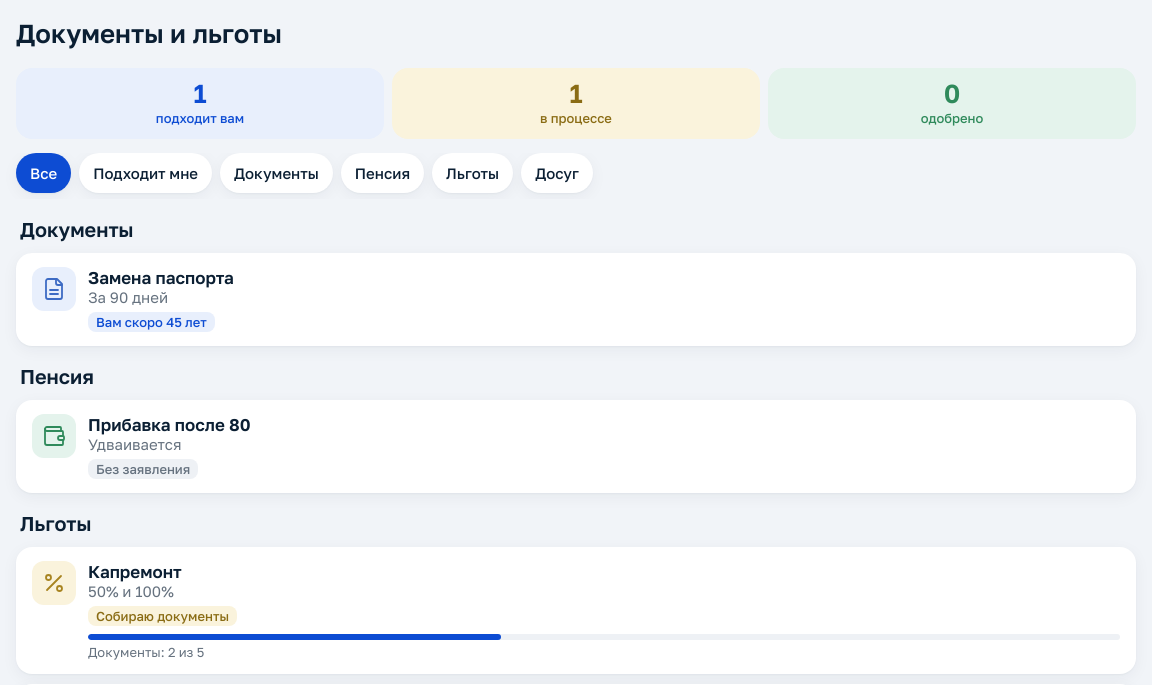
Test: DocumentsPage › фильтры и открытие льготы
This screenshot has width=1152, height=685.
Click the button "Подходит мне".
click(146, 173)  # box [79, 153, 212, 193]
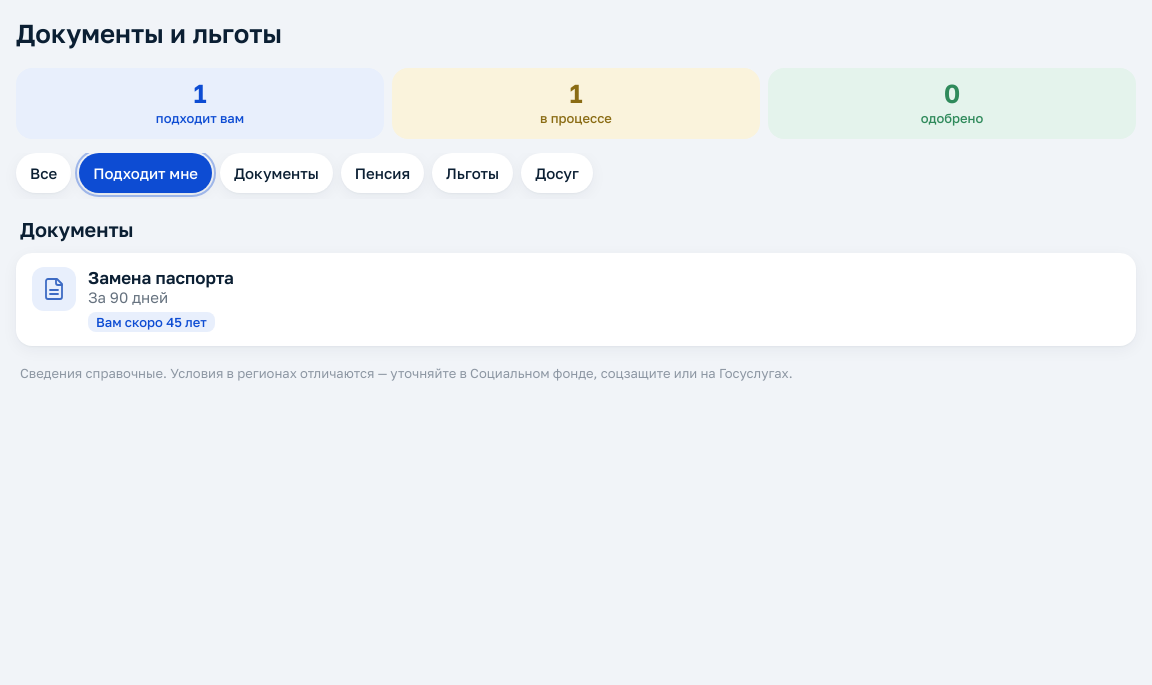
Expected: the button "Замена паспорта За 90 дней Вам скоро 45 лет" is shown, [16, 253, 1136, 346]
Expected: the button "Капремонт" is gone
Click the button "Льготы".
click(473, 173)  # box [432, 153, 513, 193]
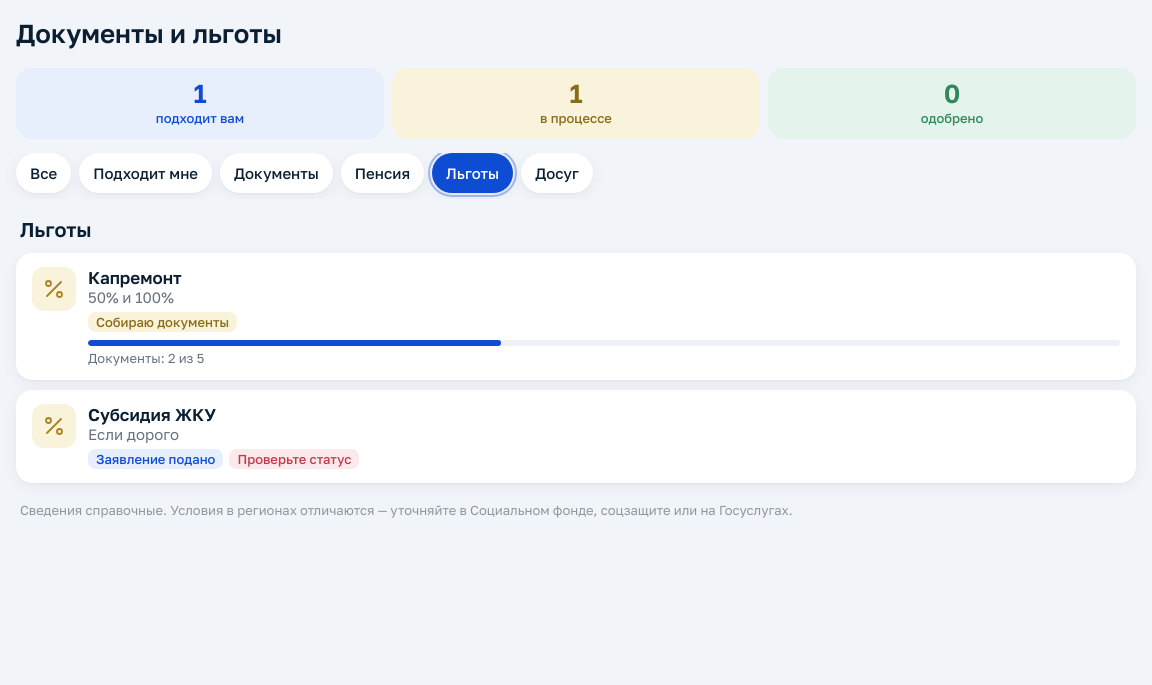
Expected: the button "Замена паспорта" is gone
Click the button "Капремонт 50% и 100% Собираю документы Документы: 2 из 5".
click(54, 289)  # box [16, 253, 1136, 380]
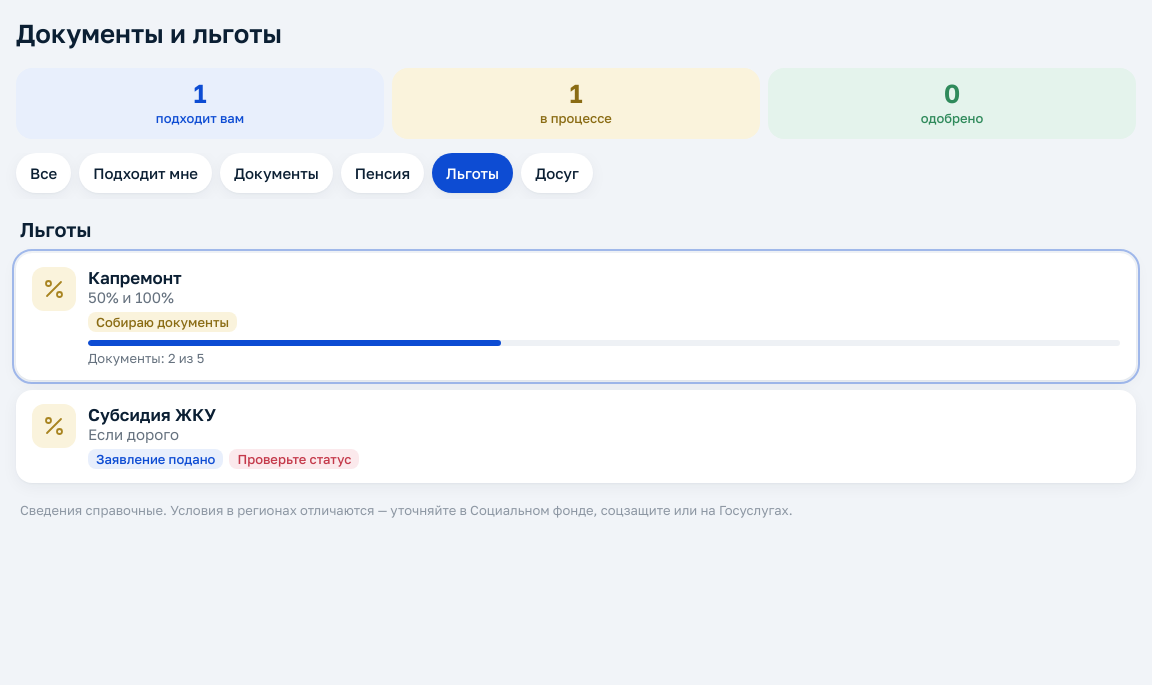
Click the button "Досуг".
click(557, 173)  # box [521, 153, 593, 193]
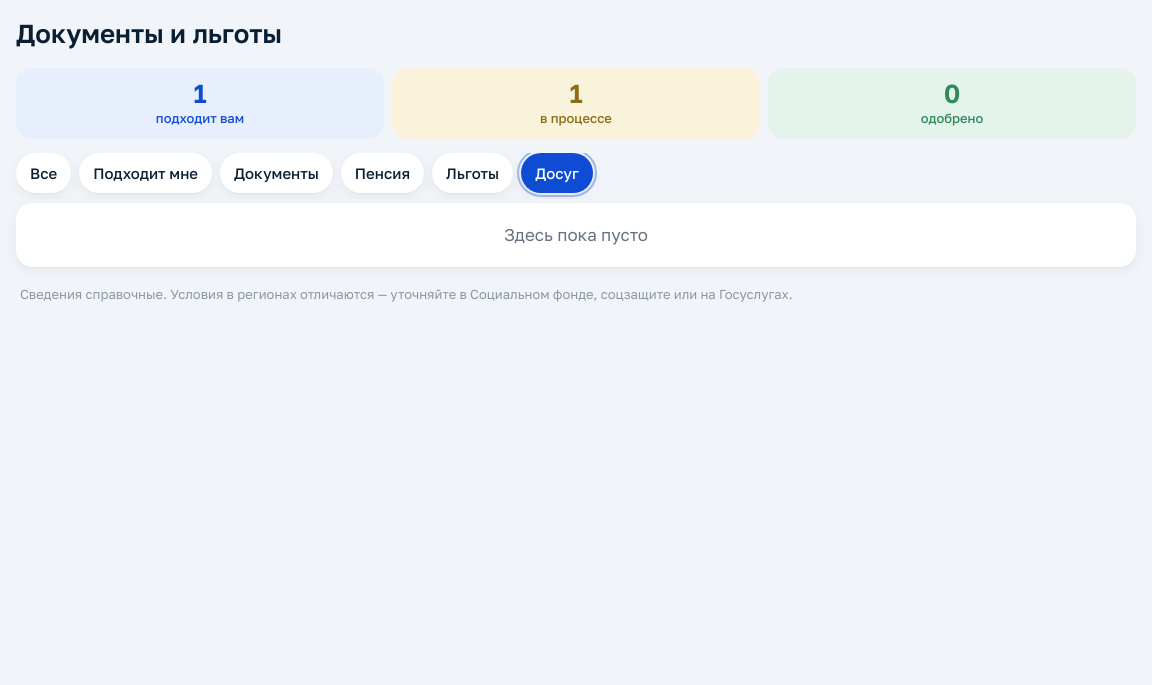
Expected: the text "Здесь пока пусто" is shown, [16, 203, 1136, 267]
